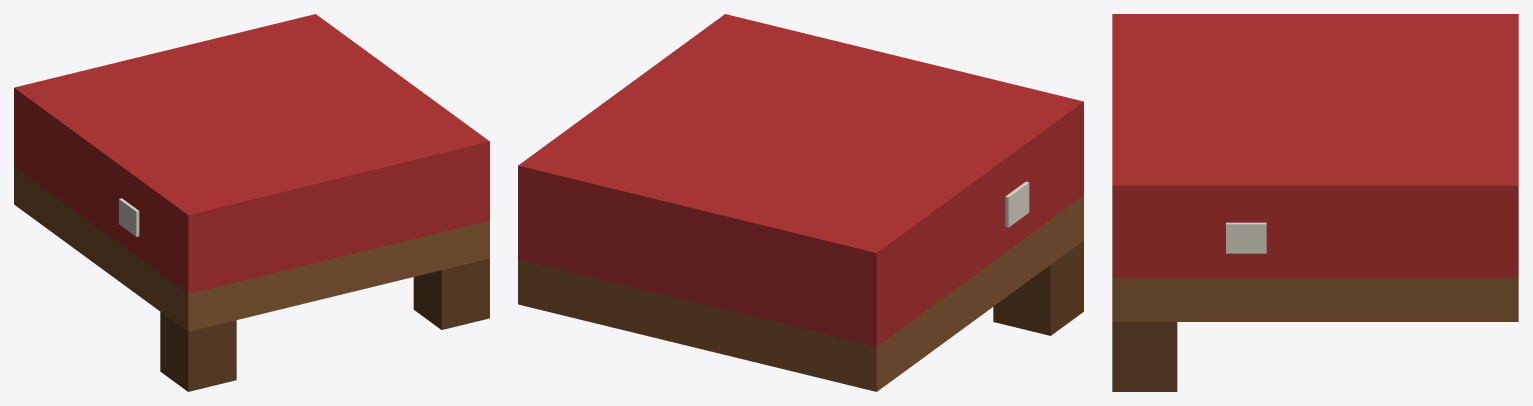
Rendered from bed_red_foot.glb.
3 renders of one model, left to right at view 1: azimuth 30°, elevation 25°; view 2: azimuth 150°, elevation 25°; view 3: azimuth 270°, elevation 25°, orthographic. The views are drawn at different scales.
Visible parts, largest first — view 1: body; view 2: body; view 3: body.
Part boxes in pixels (<box>): body: <box>14,14,489,391</box>; body: <box>518,14,1083,391</box>; body: <box>1112,14,1518,391</box>.
Size of the model in its own units: 1.02 by 0.56 by 1.
